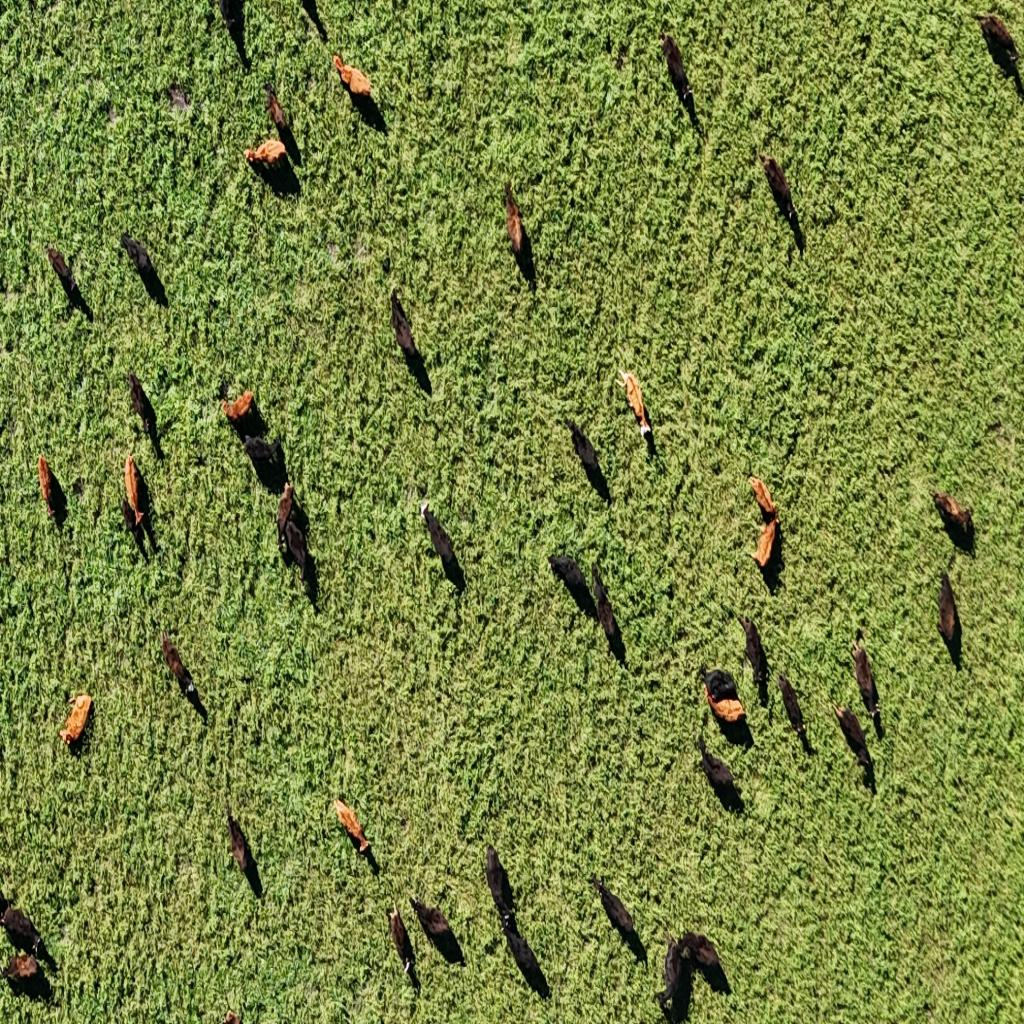cow: (590, 873, 642, 955), (420, 500, 464, 592), (696, 733, 744, 813), (499, 916, 547, 995), (331, 52, 379, 130), (759, 153, 801, 240), (832, 703, 876, 784), (677, 929, 730, 995), (484, 846, 521, 938), (566, 420, 608, 501), (409, 894, 459, 960), (742, 459, 786, 532), (592, 562, 624, 658), (743, 517, 785, 589), (120, 236, 163, 304), (654, 936, 690, 1016), (335, 796, 376, 866), (390, 291, 423, 372), (616, 365, 652, 439), (975, 11, 1019, 70), (658, 30, 693, 104), (46, 245, 85, 311), (264, 88, 298, 162), (936, 570, 962, 666), (211, 1, 249, 66), (161, 634, 197, 701), (396, 332, 432, 399), (740, 613, 770, 693), (242, 432, 284, 489), (226, 806, 256, 885), (777, 669, 808, 744), (931, 490, 974, 544), (244, 138, 290, 186), (851, 638, 878, 718), (548, 552, 592, 601), (126, 368, 156, 438), (388, 902, 414, 982), (37, 454, 65, 526), (1, 950, 46, 993), (58, 693, 92, 749), (284, 514, 310, 587), (504, 177, 526, 263), (701, 690, 745, 733), (2, 904, 44, 946), (280, 476, 308, 536), (124, 454, 145, 528), (513, 230, 537, 294), (220, 391, 258, 430), (703, 668, 738, 704), (299, 1, 326, 41)
